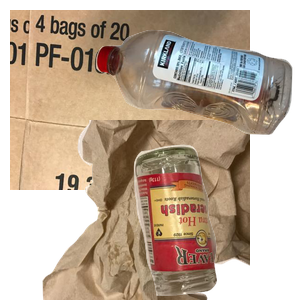cardboard: (10, 10, 250, 190)
glass: (131, 142, 300, 300)
plastic: (93, 27, 300, 154)
trash: (40, 120, 280, 300)
